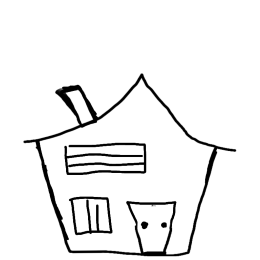bottom_placed_house: (1, 1, 260, 260)
chimney: (49, 70, 108, 129)
closed_window: (59, 137, 149, 180), (65, 189, 118, 240)
door: (124, 185, 182, 259)
single_line_roof: (15, 61, 241, 156)
wall: (28, 138, 221, 257)
